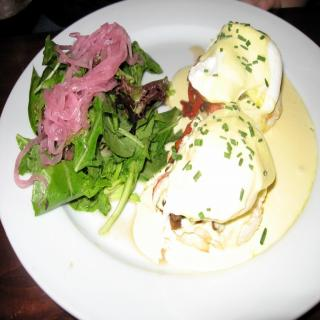Cheese: (189, 23, 282, 126)
